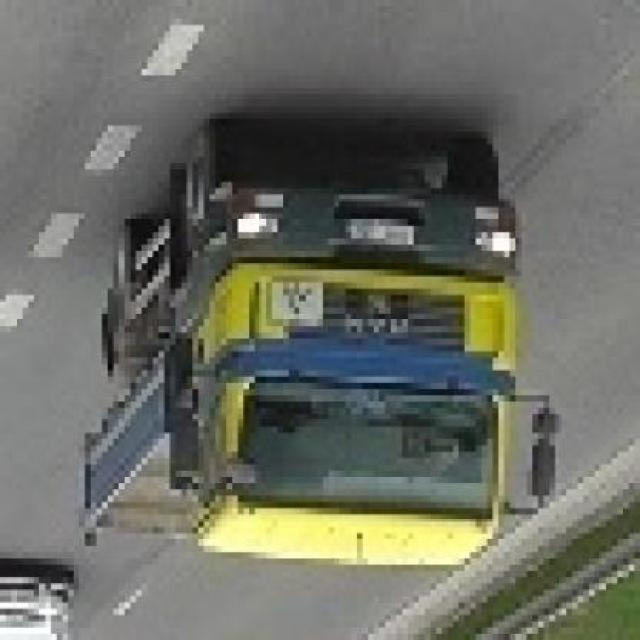truck: (86, 126, 562, 585)
